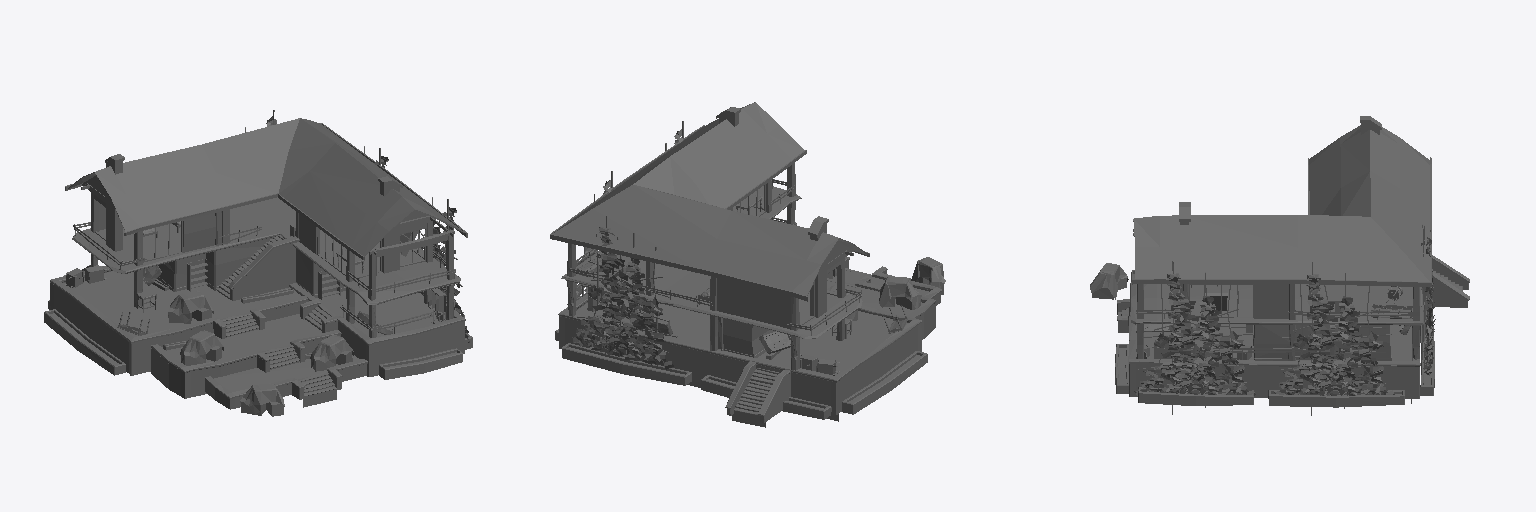
3 views of the same model, side by side, from view 1: azimuth 30°, elevation 25°; view 2: azimuth 150°, elevation 25°; view 3: azimuth 270°, elevation 25° (orthographic).
Parts seen in each view (by area): view 1: 34e1a336, 6ae14a14, f779c12a, 00925fb3, 6b696b5f, 1e864b52, a6bf2a54, 43d8a9df, c4a08185, 340013d9, 4af280b0; view 2: 6ae14a14, 34e1a336, f779c12a, 00925fb3, Mesh29, 6b696b5f, 34e1a3360, 1e864b52, a6bf2a54, dffe0f70, de96f28c0, 340013d9; view 3: 6ae14a14, 34e1a336, Mesh29, f779c12a, 9cdc8b28, 00925fb3, 6b696b5f, 34e1a3360, de96f28c0, 1e864b52, a6bf2a54, dffe0f70 (+1 smaller).
Part boxes in pixels (x1,y1,x2,y2): 34e1a336: (44, 235, 472, 409); 6ae14a14: (68, 118, 464, 256); f779c12a: (64, 197, 460, 391); 00925fb3: (90, 192, 454, 337); 6b696b5f: (65, 123, 467, 333); 1e864b52: (168, 290, 354, 414); a6bf2a54: (84, 154, 453, 304); 43d8a9df: (187, 231, 445, 314); c4a08185: (192, 308, 352, 416); 340013d9: (63, 265, 107, 287); 4af280b0: (169, 312, 335, 415); 6ae14a14: (553, 102, 868, 295); 34e1a336: (555, 257, 941, 421); f779c12a: (561, 186, 928, 374); 00925fb3: (567, 163, 845, 370); Mesh29: (572, 180, 673, 369); 6b696b5f: (550, 125, 869, 335); 34e1a3360: (725, 361, 790, 427); 1e864b52: (827, 257, 945, 320); a6bf2a54: (566, 107, 851, 336); dffe0f70: (576, 222, 790, 353); de96f28c0: (567, 171, 677, 368); 340013d9: (800, 354, 839, 375); 6ae14a14: (1133, 125, 1430, 281); 34e1a336: (1115, 270, 1434, 407); Mesh29: (1274, 237, 1435, 395); f779c12a: (1130, 282, 1423, 360); 9cdc8b28: (1134, 273, 1255, 395); 00925fb3: (1136, 284, 1419, 360); 6b696b5f: (1132, 157, 1431, 359); 34e1a3360: (1426, 255, 1469, 307); de96f28c0: (1277, 224, 1426, 415); 1e864b52: (1090, 263, 1128, 299); a6bf2a54: (1179, 116, 1420, 325); dffe0f70: (1144, 304, 1412, 334).
Size of the model in its own units: 0.3318 by 0.1921 by 0.3622.